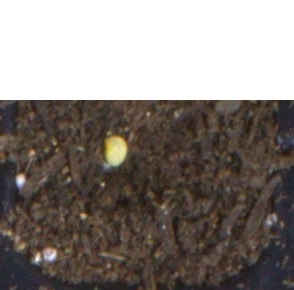chilli seed: (104, 134, 127, 168)
